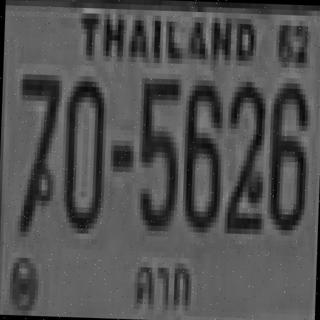N00: (60, 75, 105, 229)
N02: (223, 78, 265, 232)
N05: (136, 73, 178, 226)
N06: (179, 74, 221, 228), (265, 80, 307, 228)
N07: (14, 69, 60, 232)
P69: (128, 255, 194, 316)
